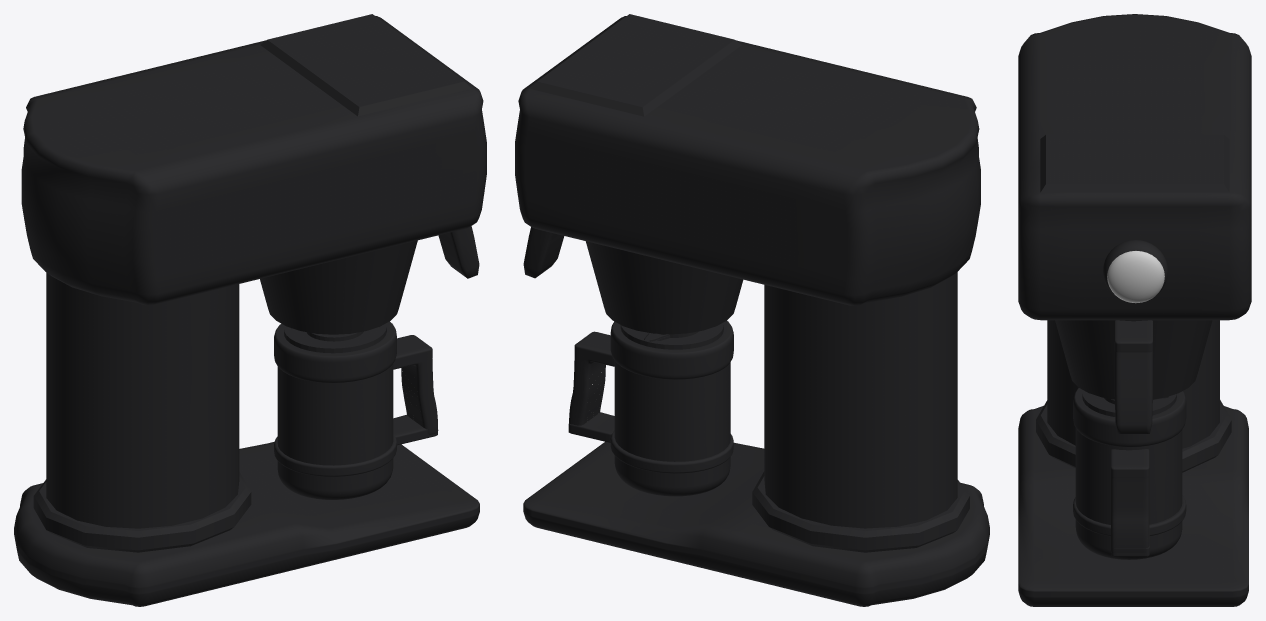
Rendered from CafeteraDos.obj.
3 renders of one model, left to right at view 1: azimuth 30°, elevation 25°; view 2: azimuth 150°, elevation 25°; view 3: azimuth 270°, elevation 25°, orthographic. The views are drawn at different scales.
Visible parts, largest first — view 1: _ceiling_fixture_v1_l8:_ceiling_fixture_v1_l8:polySurface11; view 2: _ceiling_fixture_v1_l8:_ceiling_fixture_v1_l8:polySurface11; view 3: _ceiling_fixture_v1_l8:_ceiling_fixture_v1_l8:polySurface11.
Boxes of the visible parts, left/top/right/bottom form: _ceiling_fixture_v1_l8:_ceiling_fixture_v1_l8:polySurface11: left=14, top=14, right=486, bottom=606; _ceiling_fixture_v1_l8:_ceiling_fixture_v1_l8:polySurface11: left=515, top=14, right=989, bottom=606; _ceiling_fixture_v1_l8:_ceiling_fixture_v1_l8:polySurface11: left=1018, top=14, right=1251, bottom=606.
Size of the model in its own units: 0.8781 by 0.864 by 0.4149.
